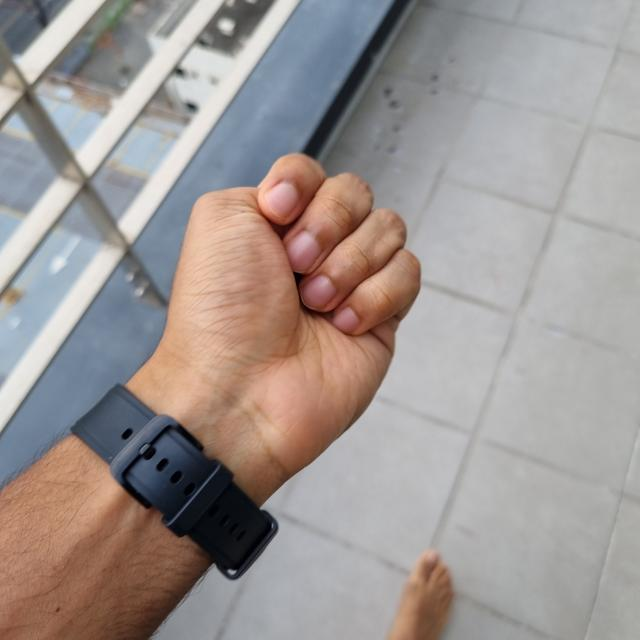Rock: (142, 155, 418, 491)
